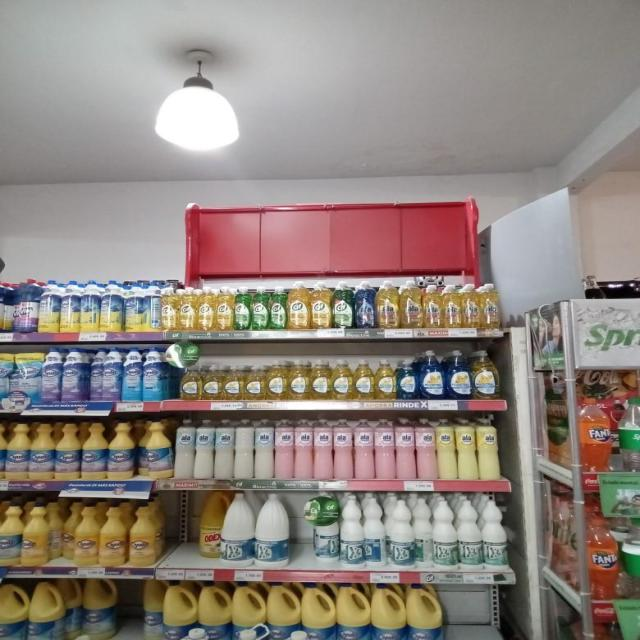ala_conc_amarillo: (376, 281, 399, 329), (400, 281, 422, 329), (480, 284, 502, 328), (423, 284, 442, 328), (442, 284, 461, 328), (462, 284, 479, 328)
ala_conc_azul: (354, 281, 375, 329)
ala_crem_amarillo: (478, 417, 502, 481), (457, 418, 477, 480), (437, 418, 456, 480)
ala_crem_blanco: (174, 419, 194, 479), (254, 420, 274, 479), (195, 419, 214, 480), (215, 419, 234, 480), (235, 419, 252, 479)
ala_crem_rosado: (375, 419, 395, 480), (417, 418, 436, 480), (396, 418, 415, 480), (275, 419, 294, 480), (334, 419, 353, 480), (355, 419, 374, 480), (294, 420, 313, 480), (314, 420, 333, 480)
cif_conc_bot_amarilla: (310, 282, 332, 329), (288, 283, 309, 330), (197, 287, 216, 331), (178, 287, 196, 331), (161, 286, 178, 331), (217, 286, 233, 331)
cif_conc_botella_verde: (332, 281, 353, 329), (234, 286, 250, 331), (270, 286, 286, 330), (252, 287, 268, 330)
heroe: (586, 525, 620, 600)
magistral_con_amarillo: (472, 350, 500, 400), (287, 360, 309, 400), (331, 359, 352, 400), (309, 360, 330, 400), (375, 359, 395, 400), (354, 359, 374, 400), (178, 364, 200, 401), (266, 361, 286, 400), (244, 364, 265, 400), (222, 364, 243, 400), (202, 365, 221, 400)
magistral_con_azul: (418, 350, 445, 400), (446, 349, 471, 400), (397, 359, 417, 400)
